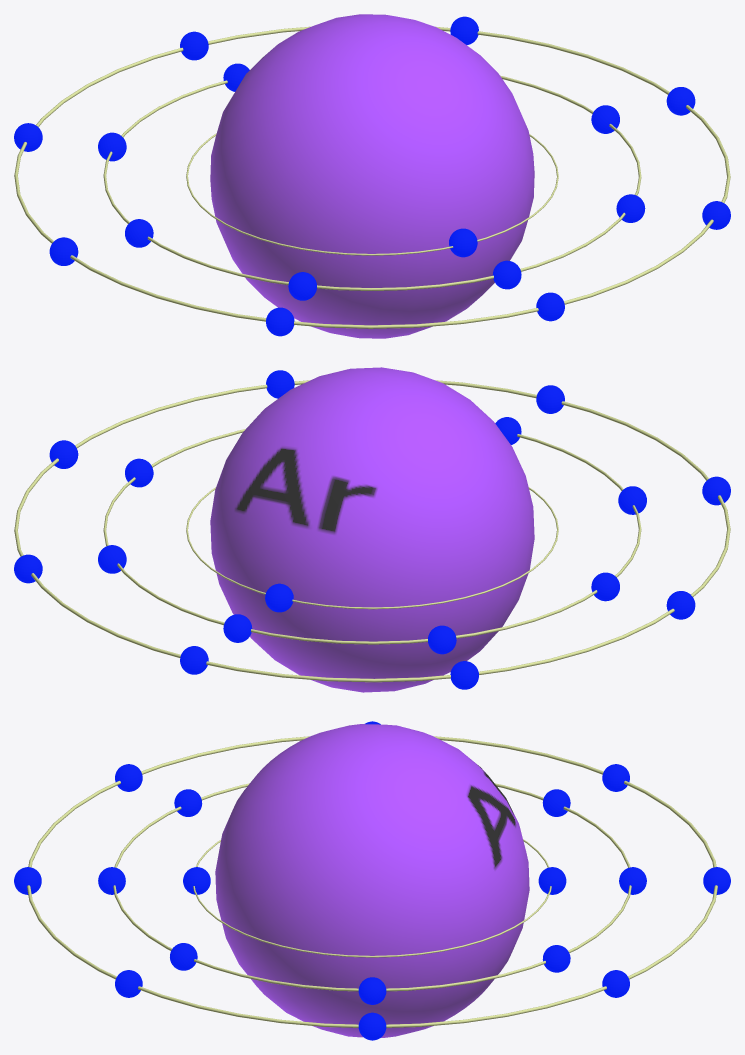
3 renders of one model, top to bottom at view 1: azimuth 30°, elevation 25°; view 2: azimuth 150°, elevation 25°; view 3: azimuth 270°, elevation 25°, orthographic. The views are drawn at different scales.
Parts seen in each view (by area): view 1: 球体, 贝塞尔圆环.002, 贝塞尔圆环.001, 贝塞尔圆环, 球体.008, 球体.009, 球体.018, 球体.012, 球体.004, 球体.003, 球体.006, 球体.010 (+7 smaller); view 2: 球体, 贝塞尔圆环.002, 贝塞尔圆环.001, 贝塞尔圆环, 球体.007, 球体.001, 球体.005, 球体.015, 球体.003, 球体.012, 球体.002, 球体.006 (+7 smaller); view 3: 球体, 贝塞尔圆环.002, 贝塞尔圆环.001, 贝塞尔圆环, 球体.011, 球体.014, 球体.010, 球体.002, 球体.001, 球体.008, 球体.005, 球体.016 (+8 smaller).
Boxes of the visible parts, x1=… form: 球体: x1=210, y1=14, x2=534, y2=338; 贝塞尔圆环.002: x1=14, y1=26, x2=730, y2=328; 贝塞尔圆环.001: x1=103, y1=75, x2=641, y2=290; 贝塞尔圆环: x1=186, y1=133, x2=558, y2=255; 球体.008: x1=288, y1=272, x2=316, y2=300; 球体.009: x1=492, y1=260, x2=521, y2=289; 球体.018: x1=266, y1=307, x2=294, y2=336; 球体.012: x1=536, y1=292, x2=564, y2=321; 球体.004: x1=449, y1=228, x2=477, y2=257; 球体.003: x1=180, y1=31, x2=208, y2=60; 球体.006: x1=125, y1=219, x2=153, y2=247; 球体.010: x1=616, y1=194, x2=645, y2=222; 球体: x1=210, y1=367, x2=534, y2=692; 贝塞尔圆环.002: x1=14, y1=380, x2=730, y2=682; 贝塞尔圆环.001: x1=103, y1=429, x2=641, y2=644; 贝塞尔圆环: x1=186, y1=487, x2=558, y2=609; 球体.007: x1=223, y1=614, x2=252, y2=642; 球体.001: x1=265, y1=583, x2=293, y2=612; 球体.005: x1=428, y1=625, x2=456, y2=654; 球体.015: x1=450, y1=661, x2=478, y2=689; 球体.003: x1=180, y1=646, x2=208, y2=674; 球体.012: x1=536, y1=385, x2=564, y2=413; 球体.002: x1=98, y1=545, x2=126, y2=573; 球体.006: x1=591, y1=572, x2=619, y2=601; 球体: x1=215, y1=724, x2=529, y2=1037; 贝塞尔圆环.002: x1=27, y1=736, x2=717, y2=1027; 贝塞尔圆环.001: x1=113, y1=783, x2=631, y2=991; 贝塞尔圆环: x1=193, y1=839, x2=551, y2=957; 球体.011: x1=358, y1=977, x2=386, y2=1004; 球体.014: x1=358, y1=1012, x2=386, y2=1040; 球体.010: x1=170, y1=943, x2=197, y2=970; 球体.002: x1=542, y1=945, x2=570, y2=972; 球体.001: x1=538, y1=867, x2=566, y2=894; 球体.008: x1=174, y1=789, x2=202, y2=816; 球体.005: x1=542, y1=789, x2=570, y2=816; 球体.016: x1=602, y1=970, x2=629, y2=997.
Bounding box in the file's own units: 2.42 × 1.06 × 2.42.
10 materials, 1 textured.
